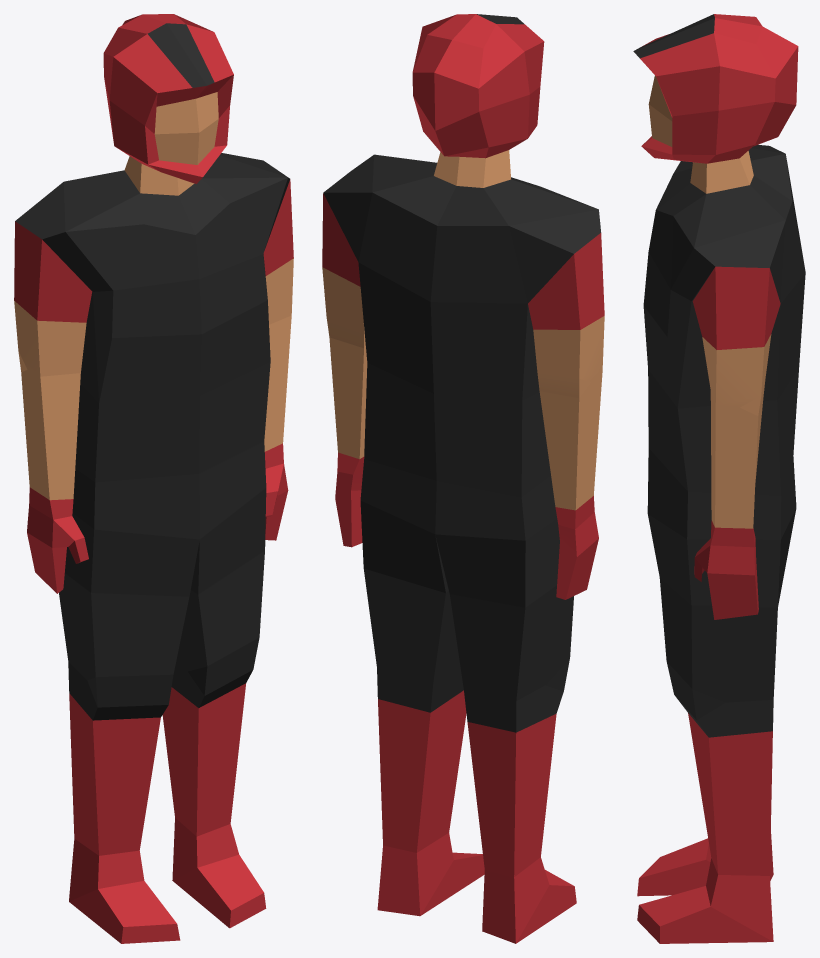
Rendered from people_man-football.fbx.
3 renders of one model, left to right at view 1: azimuth 30°, elevation 25°; view 2: azimuth 150°, elevation 25°; view 3: azimuth 270°, elevation 25°, orthographic.
Parts seen in each view (by area): view 1: people_man_football; view 2: people_man_football; view 3: people_man_football.
Part boxes in pixels (x1,y1,x2,y2): people_man_football: [14, 14, 293, 943]; people_man_football: [322, 14, 604, 943]; people_man_football: [633, 14, 805, 943].
Bounding box in the file's own units: 60.79 × 200 × 35.08.
